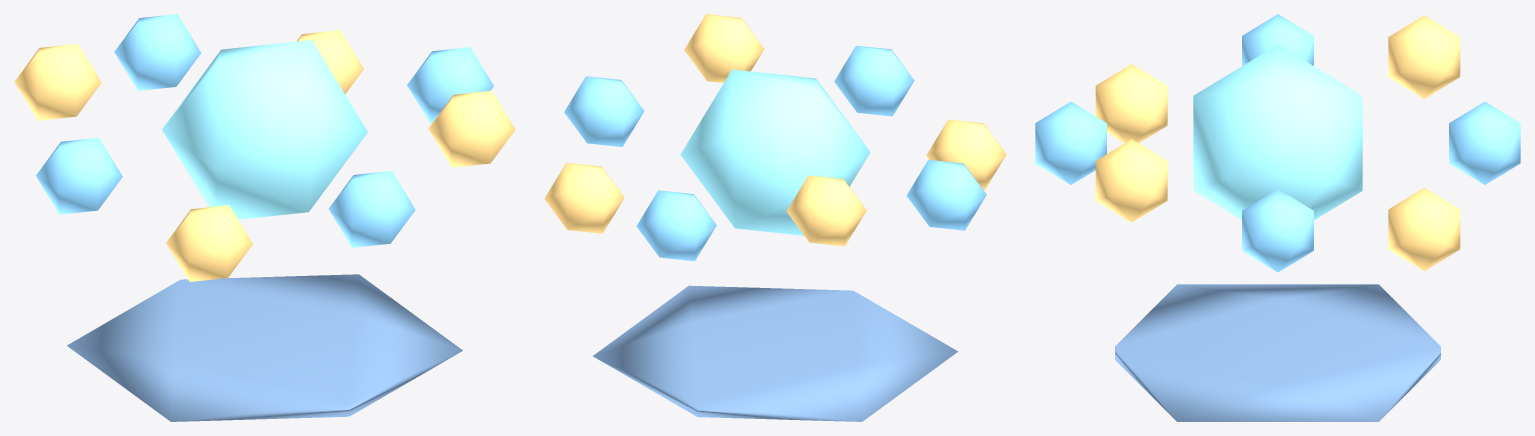
File: demo.glb
3 renders of one model, left to right at view 1: azimuth 30°, elevation 25°; view 2: azimuth 150°, elevation 25°; view 3: azimuth 270°, elevation 25°, orthographic. The views are drawn at different scales.
Parts seen in each view (by area): view 1: Base, Center, Light_5, Light_1, Light_4, Light_2, Light_3, Light_6, Light_0, Light_7; view 2: Base, Center, Light_2, Light_4, Light_5, Light_0, Light_6, Light_7, Light_1, Light_3; view 3: Base, Center, Light_7, Light_1, Light_5, Light_6, Light_0, Light_2, Light_3, Light_4.
Boxes of the visible parts, x1,y1,x2,y2 form: Base: (67,274,462,421); Center: (162,40,367,219); Light_5: (14,44,101,120); Light_1: (428,90,515,167); Light_4: (36,137,122,214); Light_2: (328,171,415,247); Light_3: (166,205,252,281); Light_6: (114,14,200,90); Light_0: (407,47,493,123); Light_7: (296,30,363,94); Base: (593,285,957,421); Center: (680,69,870,235); Light_2: (834,45,914,116); Light_4: (906,159,986,230); Light_5: (786,175,866,246); Light_0: (564,76,644,146); Light_6: (636,190,716,261); Light_7: (544,163,624,233); Light_1: (684,14,764,82); Light_3: (926,119,1006,190); Base: (1115,284,1440,421); Center: (1193,44,1362,219); Light_7: (1388,187,1460,271); Light_1: (1095,139,1167,222); Light_5: (1388,15,1460,98); Light_6: (1449,101,1520,184); Light_0: (1242,189,1313,272); Light_2: (1035,101,1106,184); Light_3: (1095,64,1167,142); Light_4: (1242,14,1313,65).
Bounding box in the file's own units: 0.6336 × 0.4279 × 0.6336.
